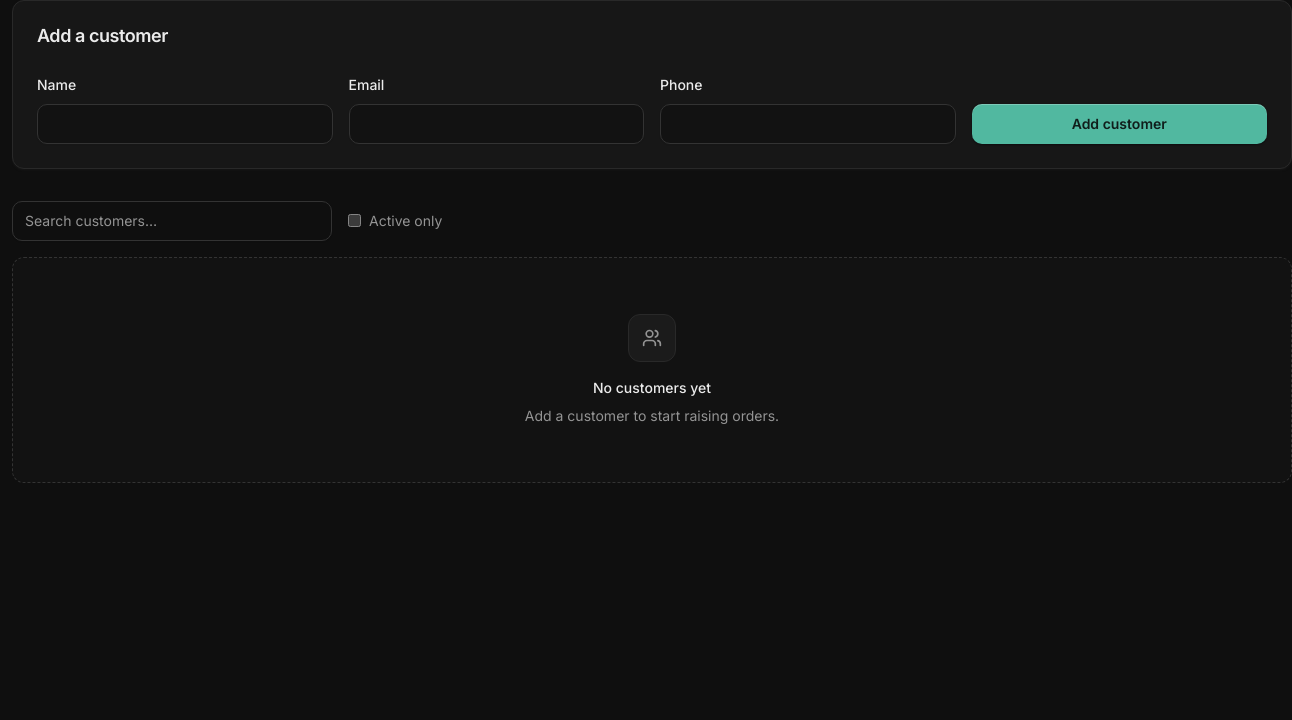
Test: CustomersPanel › shows the server error when adding fails
This screenshot has width=1292, height=720.
In the field labelled "Name": (185,124) [37,104,332,144], type "Acme Foods"
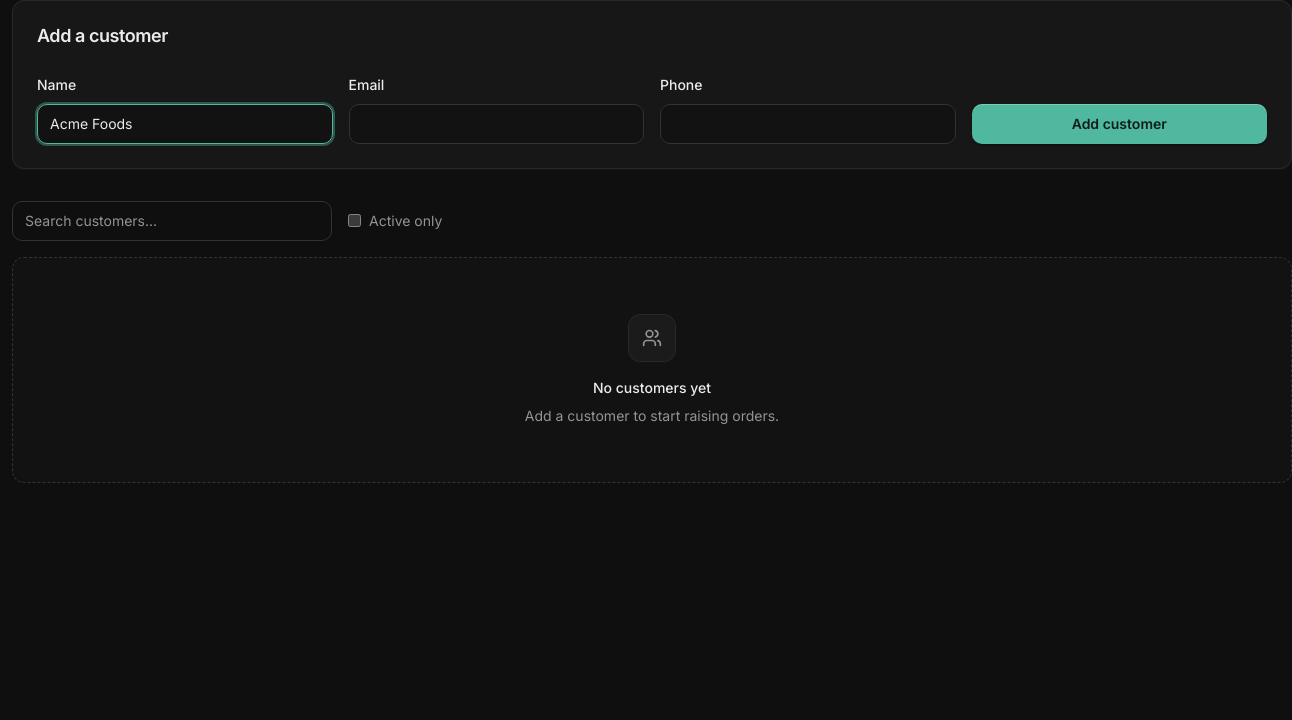
Click the button "Add customer": (1119,124) [972,104,1267,144]
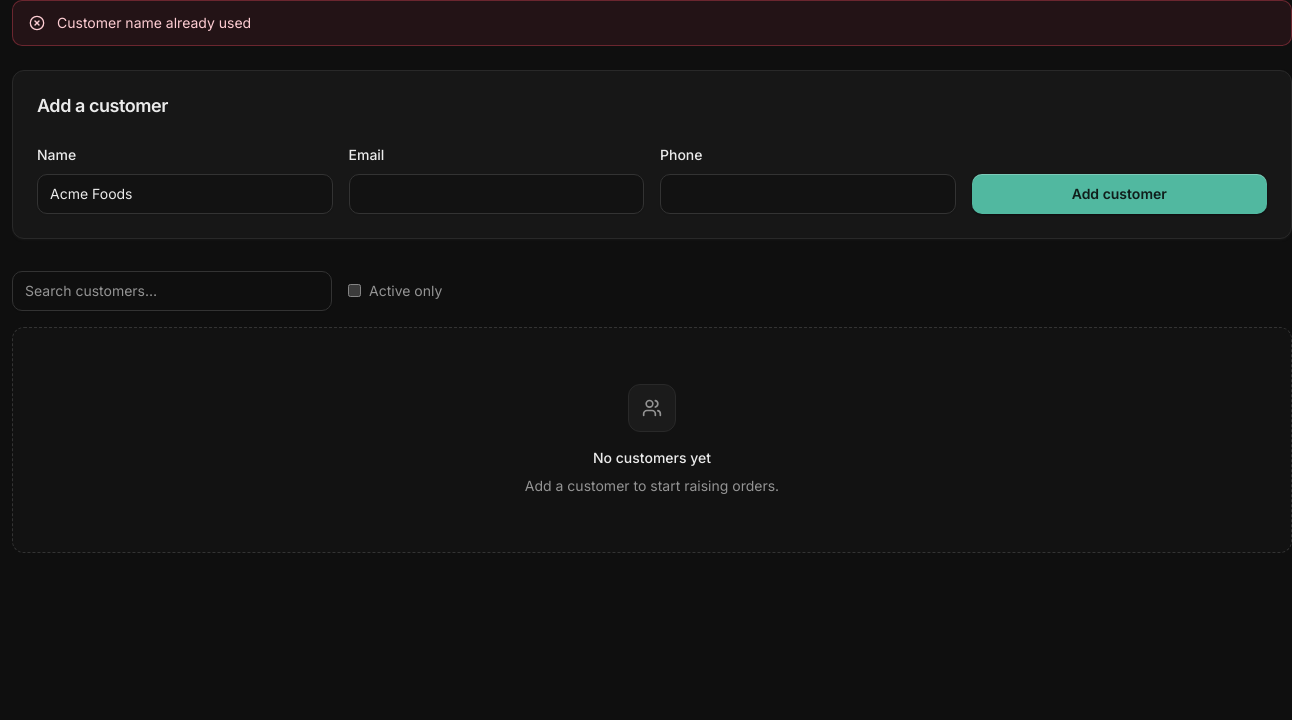
expect the text "Customer name already used" is shown: met, box [57,13,251,33]
